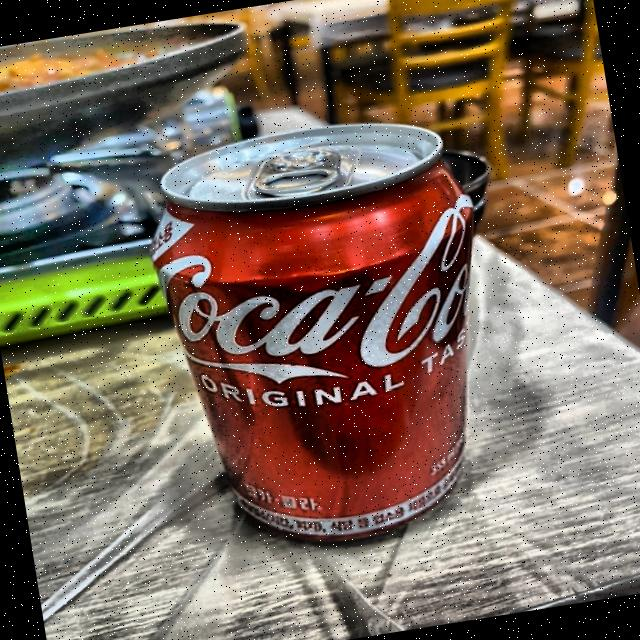cocacola: (142, 132, 512, 559)
